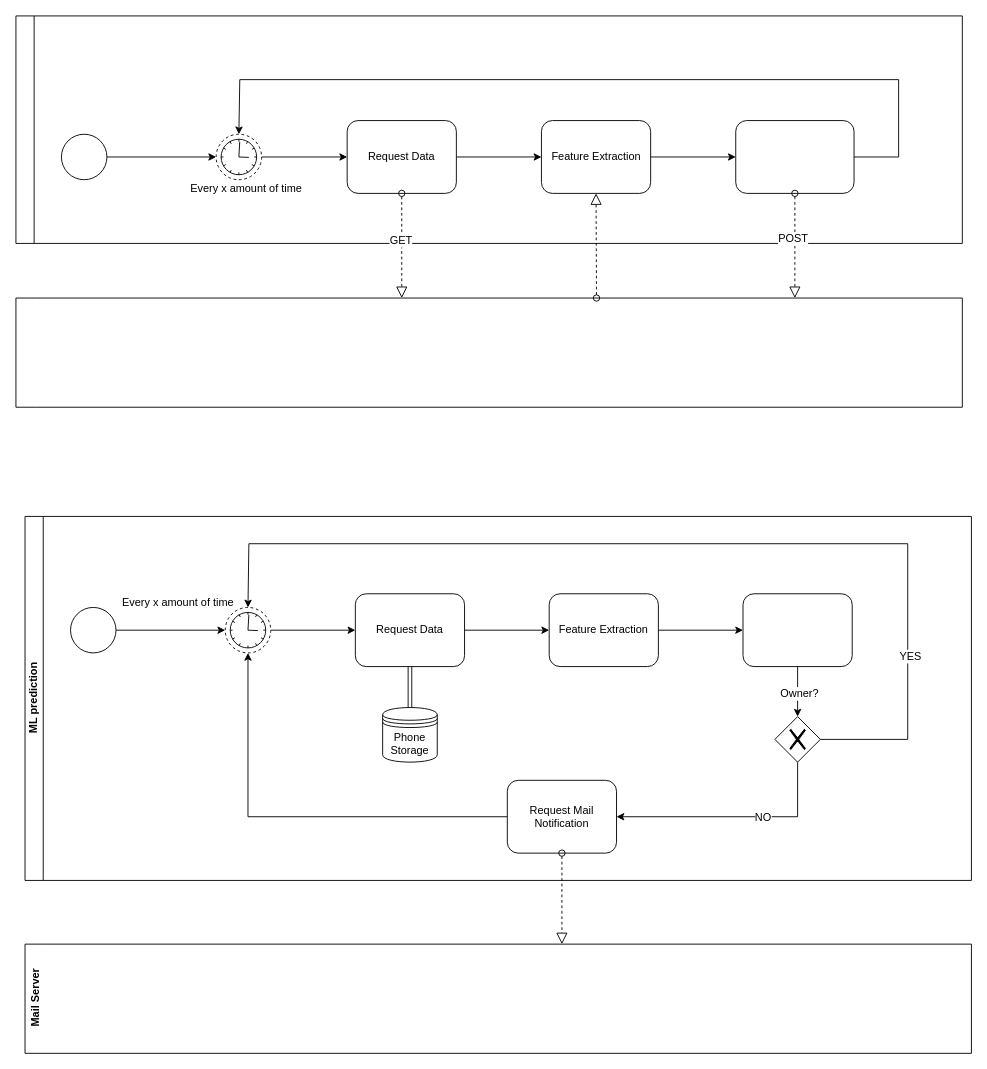
The diagram is 987 pixels wide and 1069 high, and some of its shapes have lost their labels. Here are the shapes that lost their labels. From the top down, the box of each, then its label:
(15, 15, 962, 243): ML training
(735, 120, 854, 193): Train Model
(15, 297, 962, 407): Storage Server
(742, 593, 852, 667): Predict
